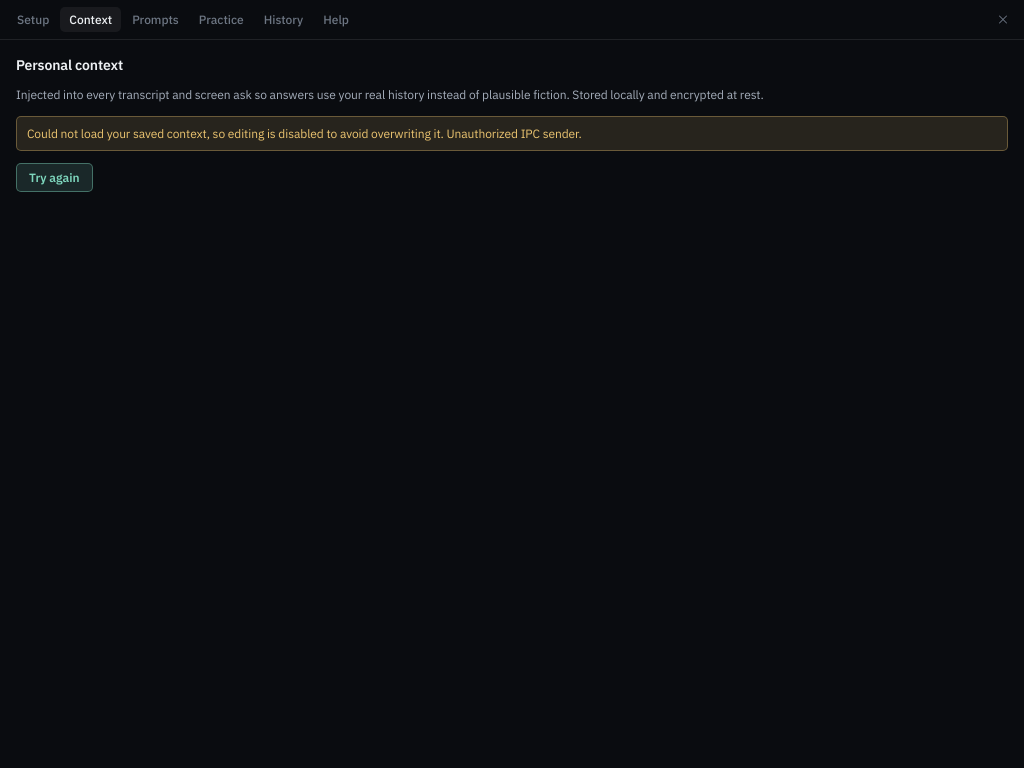
Test: Context tab › offers a retry when the stored context cannot be loaded
Expected: the text "Could not load your saved context" is shown, [27,126,444,141]
Expected: the text "Unauthorized IPC sender" is shown, [446,126,582,141]
What coordinates should you click on to do the following:
click the button "Try again"
I would click on:
 (54, 178)
Its box is [16,163,93,192].
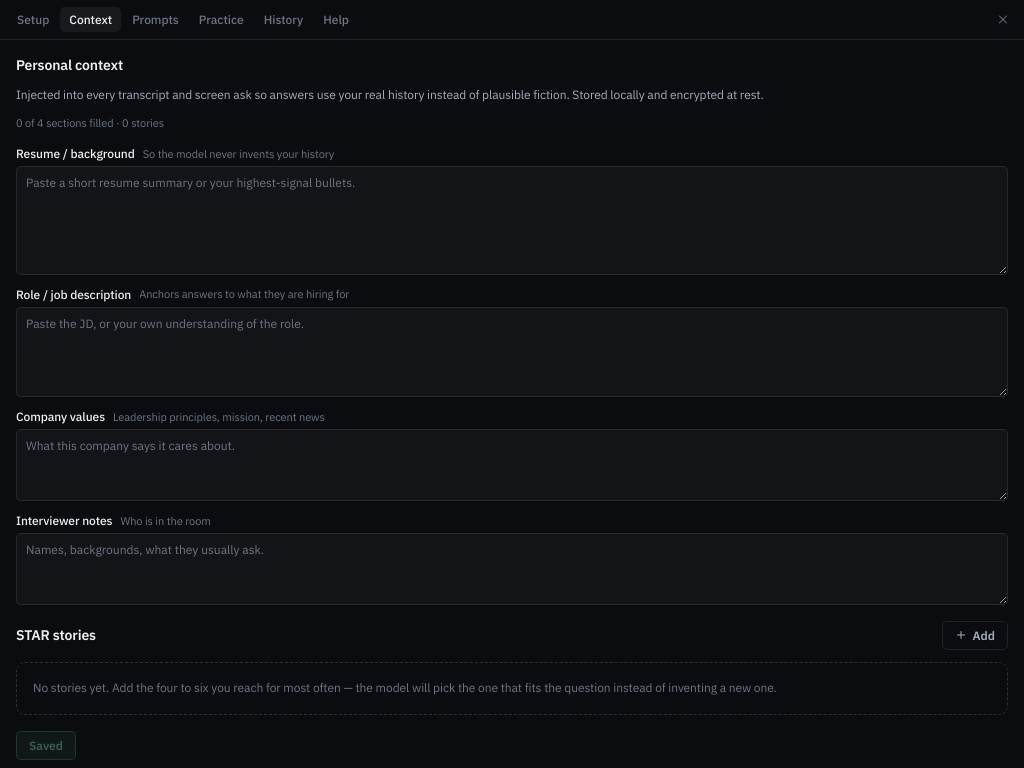
Expected: the text "No stories yet" is shown, [33,680,777,695]
Expected: the text "Could not load your saved context" is gone
